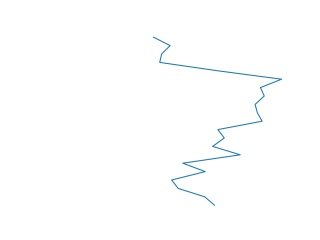floodPlain: (151, 34, 284, 207)
